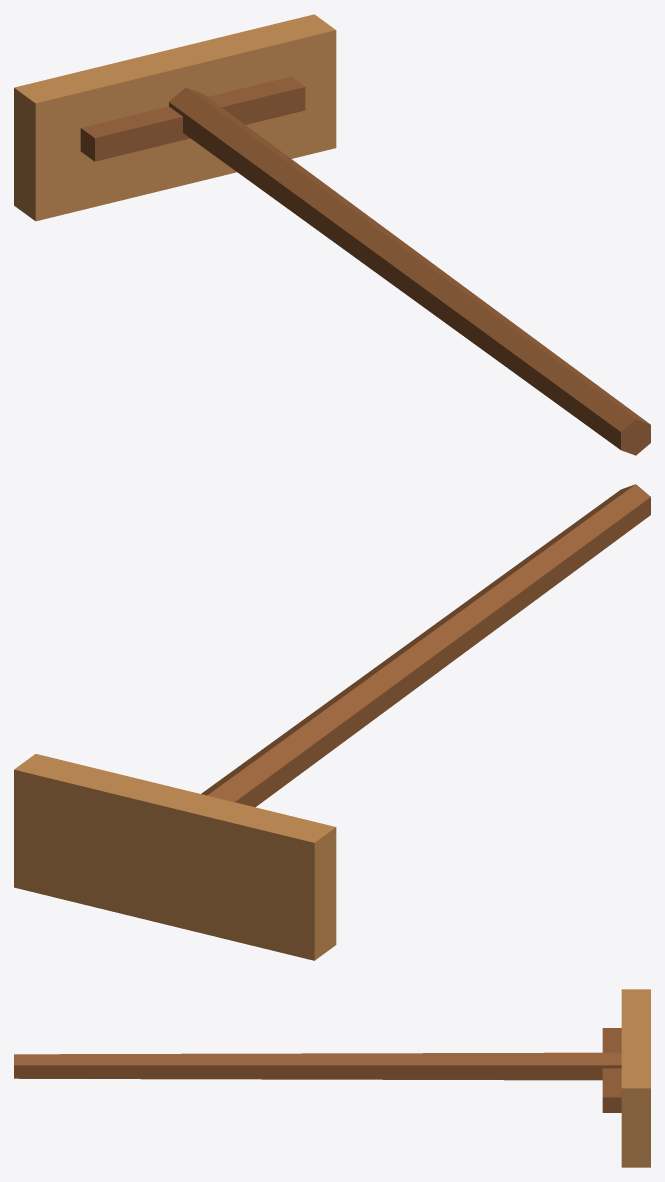
File: nagi.glb
The picture shows the model from 3 angles, top to bottom: view 1: azimuth 30°, elevation 25°; view 2: azimuth 150°, elevation 25°; view 3: azimuth 270°, elevation 25°; orthographic projection. The views are drawn at different scales.
Parts seen in each view (by area): view 1: Head, Handle; view 2: Head, Handle; view 3: Handle, Head.
Boxes of the visible parts, left/top/right/bottom form: Head: left=14, top=14, right=336, bottom=221; Handle: left=169, top=87, right=650, bottom=455; Head: left=14, top=754, right=336, bottom=960; Handle: left=201, top=484, right=650, bottom=807; Handle: left=14, top=1052, right=621, bottom=1080; Head: left=602, top=989, right=650, bottom=1167.
Size of the model in its own units: 16 by 6 by 43.5.
